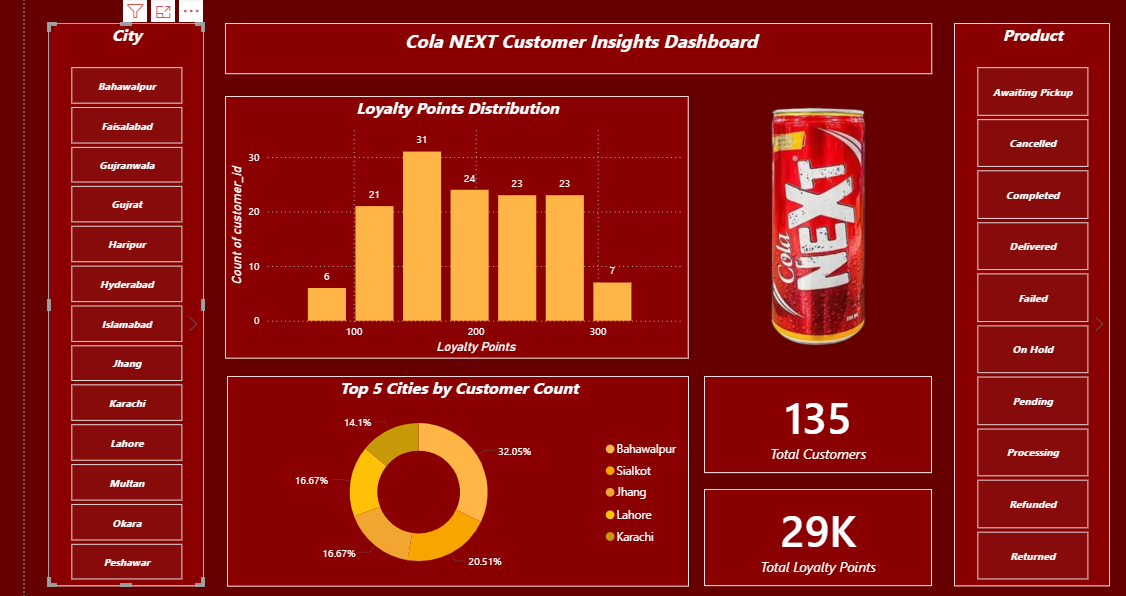

What the dashboard file says about the page in this screenshot:
{"tool":"powerbi","page":{"name":"Customers Insights","canvas":[1280,720],"ordinal":0},"visuals":[{"type":"slicer","title":"City","fields":{"Values":["colanextdb customers.city"]},"box":[27,28.3,179.9,650.3],"z":0},{"type":"textbox","box":[231.3,28.3,816.1,59.1],"z":1000},{"type":"slicer","title":"Product","fields":{"Values":["colanextdb orders.status"]},"box":[1071.8,28.3,179.9,650.3],"z":2000},{"type":"columnChart","title":"Loyalty Points Distribution","fields":{"Category":["colanextdb customers.loyalty_points 2"],"Y":["CountNonNull(colanextdb customers.customer_id)"]},"box":[231.3,113.1,534.6,303.3],"z":3000},{"type":"donutChart","title":"Top 5 Cities by Customer Count","fields":{"Y":["CountNonNull(colanextdb customers.customer_id)"],"Category":["colanextdb customers.city"]},"box":[232.6,435.7,533.3,242.9],"z":4000},{"type":"card","fields":{"Values":["CountNonNull(colanextdb customers.customer_id)"]},"box":[783.9,435.7,263.5,111.8],"z":5000},{"type":"card","fields":{"Values":["Sum(colanextdb customers.loyalty_points)"]},"box":[783.9,566.7,263.5,111.8],"z":6000},{"type":"image","box":[783.9,113.1,263.5,303.3],"z":7000}]}

Visuals, with their boxes on the page's 1280x720 design canvas (x1, y1, x2, y2). These are canvas units, not pixel positions in the 1126x596 screenshot, which may show the page scaled, cropped or inside an application window:
"City" slicer: (left=27, top=28, right=207, bottom=679)
textbox: (left=231, top=28, right=1047, bottom=87)
"Product" slicer: (left=1072, top=28, right=1252, bottom=679)
"Loyalty Points Distribution" columnChart: (left=231, top=113, right=766, bottom=416)
"Top 5 Cities by Customer Count" donutChart: (left=233, top=436, right=766, bottom=679)
card - CountNonNull(colanextdb customers.customer_id): (left=784, top=436, right=1047, bottom=548)
card - Sum(colanextdb customers.loyalty_points): (left=784, top=567, right=1047, bottom=678)
image: (left=784, top=113, right=1047, bottom=416)
